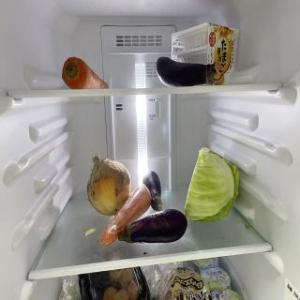cabbage: (184, 146, 240, 224)
carrot: (102, 183, 152, 248), (63, 57, 109, 91)
eggplant: (118, 210, 188, 244), (157, 55, 217, 89), (144, 170, 166, 209)
onion: (88, 157, 134, 217)
